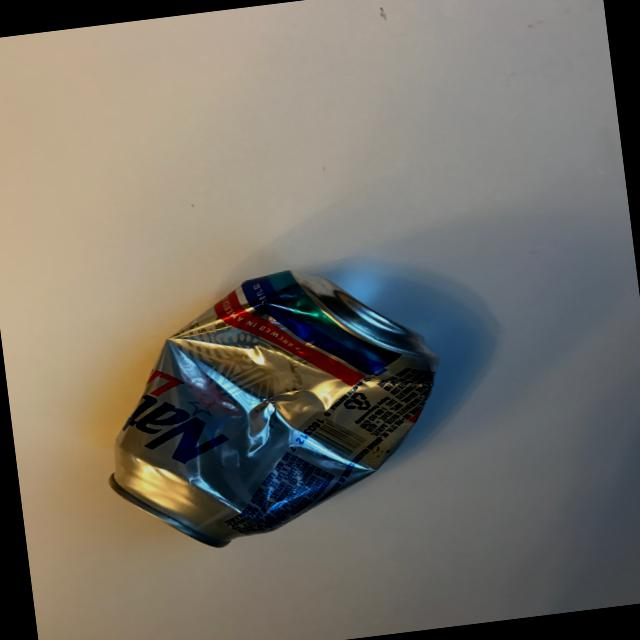Metal: (65, 244, 477, 576)
